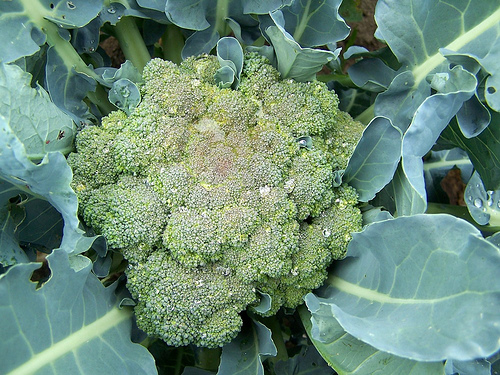broccoli: (68, 51, 362, 348)
